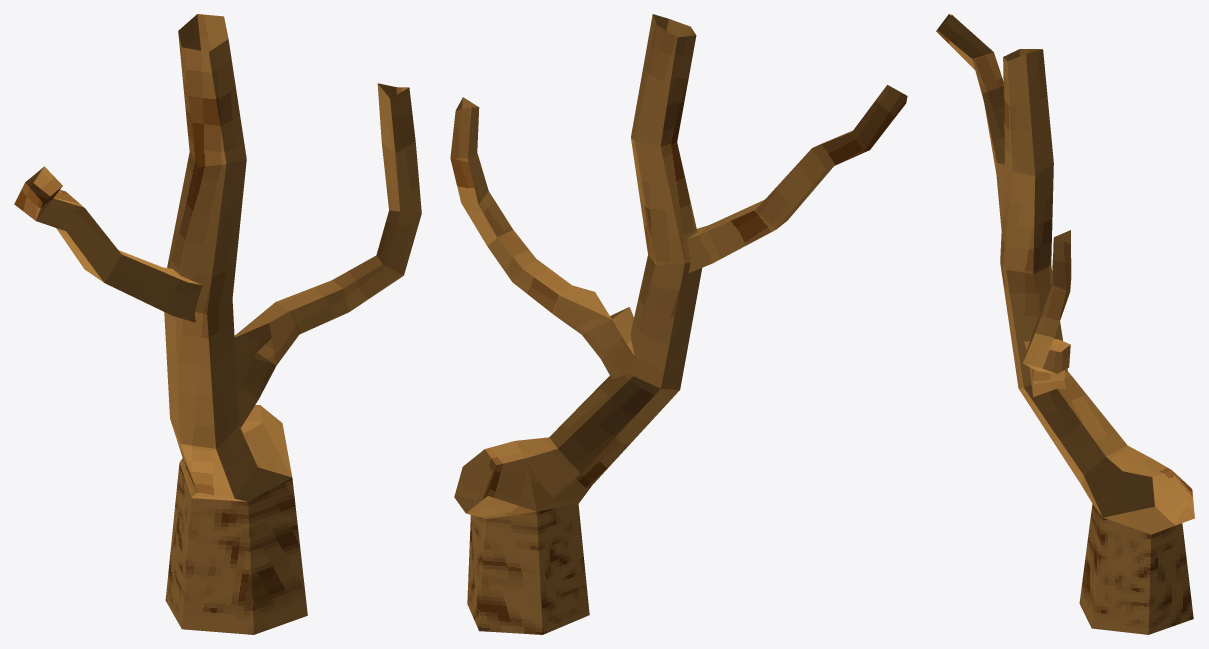
Rendered from tronco.obj.
3 views of the same model, side by side, from view 1: azimuth 30°, elevation 25°; view 2: azimuth 150°, elevation 25°; view 3: azimuth 270°, elevation 25° (orthographic). The views are drawn at different scales.
Parts seen in each view (by area): view 1: rama; view 2: rama; view 3: rama.
Boxes of the visible parts, box(x1,y1,x2,y2) form: rama: box(14, 14, 421, 634); rama: box(450, 14, 907, 634); rama: box(936, 14, 1194, 634).
Bounding box in the file's own units: 15.3 × 21.26 × 9.46.
Materials: 1 (1 with a texture image).
